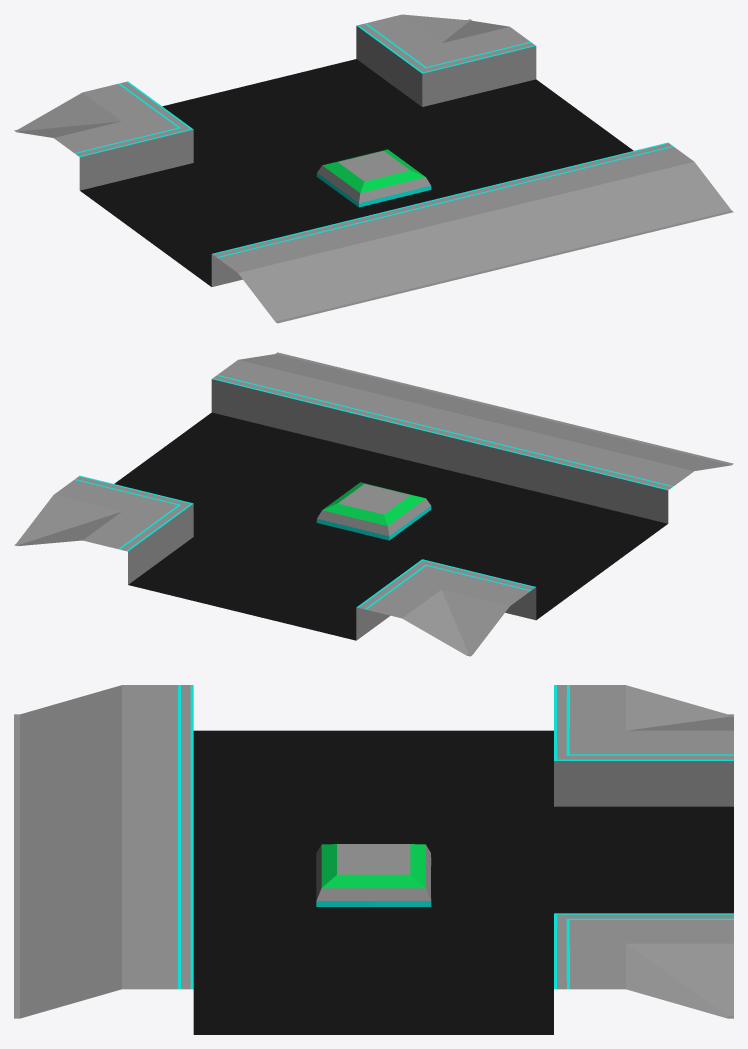
The model's file is rail_plate_t_junction_01.FBX.
3 renders of one model, top to bottom at view 1: azimuth 30°, elevation 25°; view 2: azimuth 150°, elevation 25°; view 3: azimuth 270°, elevation 25°, orthographic. The views are drawn at different scales.
Visible parts, largest first — view 1: rail_plate_t_junction_01; view 2: rail_plate_t_junction_01; view 3: rail_plate_t_junction_01.
Boxes of the visible parts, x1,y1,x2,y2 form: rail_plate_t_junction_01: (14, 14, 733, 323); rail_plate_t_junction_01: (14, 352, 733, 656); rail_plate_t_junction_01: (14, 685, 733, 1034).
Bounding box in the file's own units: 400 × 27.96 × 400.
